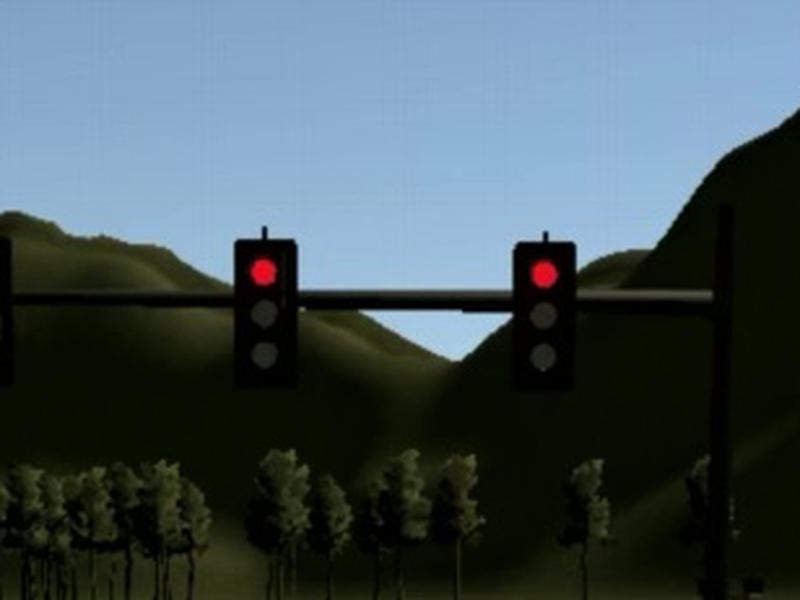Red: (513, 243, 575, 391), (235, 240, 299, 380)
